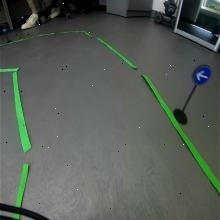left: (193, 63, 211, 85)
